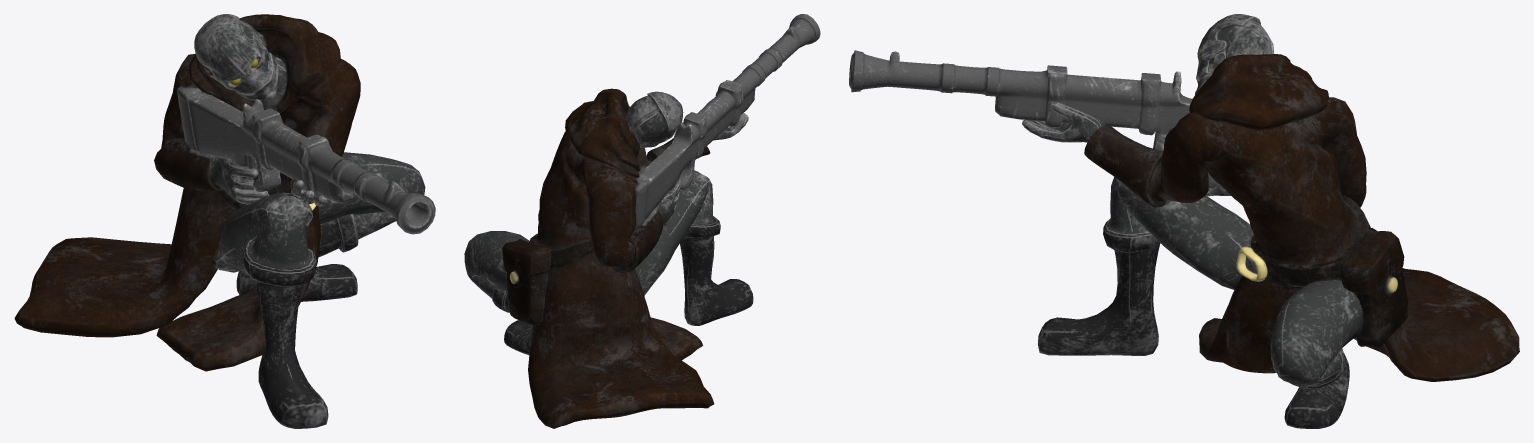
Rendered from MZ4250 - Warforged Gunslinger.glb.
3 views of the same model, side by side, from view 1: azimuth 30°, elevation 25°; view 2: azimuth 150°, elevation 25°; view 3: azimuth 270°, elevation 25° (orthographic). The views are drawn at different scales.
Visible parts, largest first — view 1: Warforced Gunslinger_low.003; view 2: Warforced Gunslinger_low.003; view 3: Warforced Gunslinger_low.003.
Part boxes in pixels (bbox=[...]): Warforced Gunslinger_low.003: bbox=[14, 14, 435, 428]; Warforced Gunslinger_low.003: bbox=[464, 14, 820, 428]; Warforced Gunslinger_low.003: bbox=[849, 14, 1519, 428].
Size of the model in its own units: 0.8169 by 0.7272 by 1.3.
1 material, 1 textured.
